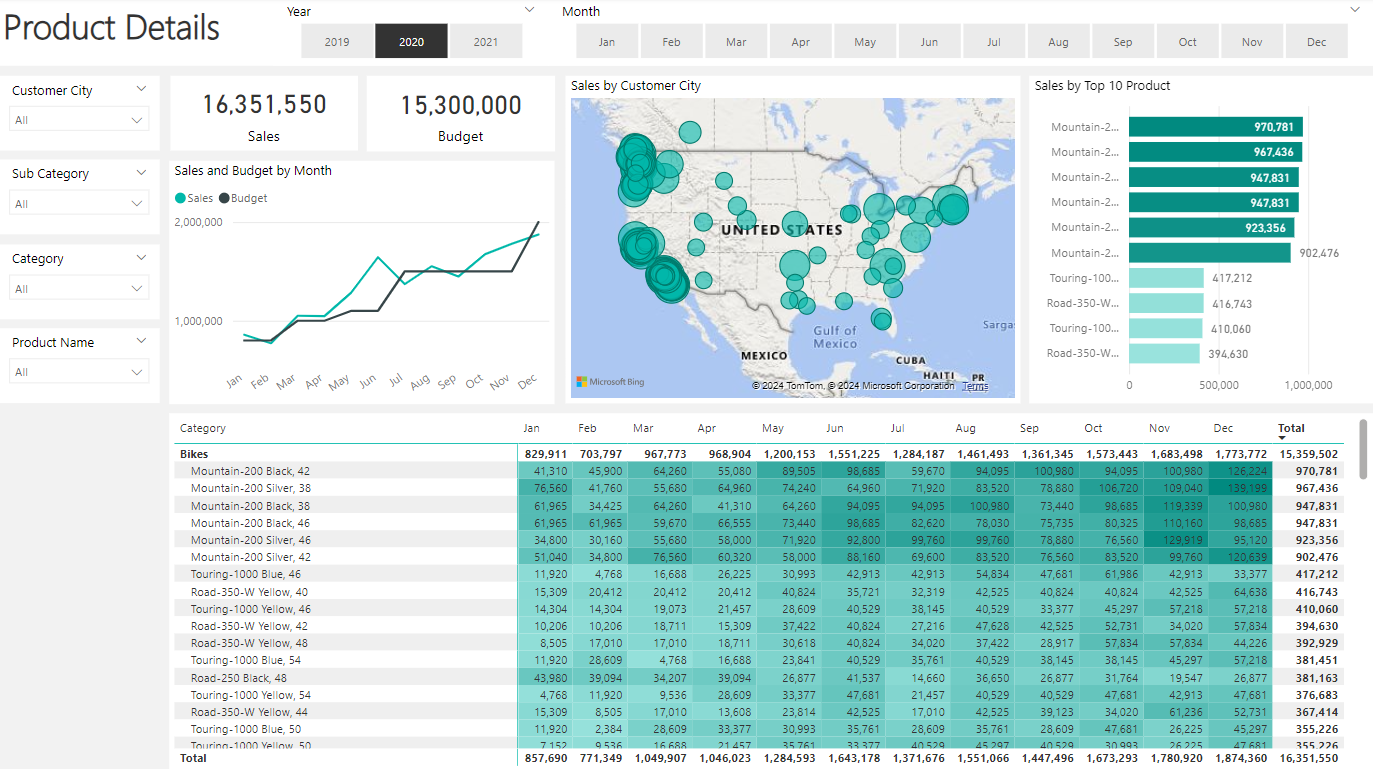

This screenshot's page, from the dashboard's own definition file:
{"tool":"powerbi","page":{"name":"Product Details","canvas":[1280,720],"ordinal":2},"visuals":[{"type":"textbox","box":[0,0,1280,64],"z":0},{"type":"slicer","fields":{"Values":["DIM_Calendar.Year"]},"box":[256,0,256,64],"z":1000},{"type":"slicer","fields":{"Values":["DIM_Calendar.MonthShort"]},"box":[512,0,768,64],"z":2000},{"type":"slicer","fields":{"Values":["DIM_Customers.Customer City"]},"box":[0,73,150.5,69.3],"z":3000},{"type":"slicer","fields":{"Values":["DIM_Products.Product Category"]},"box":[0,229.9,150.5,69.3],"z":4000},{"type":"slicer","fields":{"Values":["DIM_Products.Product Name"]},"box":[0,308.4,150.5,69.3],"z":5000},{"type":"slicer","fields":{"Values":["DIM_Products.Sub Category"]},"box":[0,151.4,150.5,69.3],"z":6000},{"type":"lineChart","fields":{"Category":["DIM_Calendar.MonthShort"],"Y":["Analysis Metrics.Sales","Analysis Metrics.Budget"]},"box":[159.8,151.8,358.7,226.4],"z":7000},{"type":"card","fields":{"Values":["Analysis Metrics.Sales"]},"box":[160.7,72.8,174,69.2],"z":8000},{"type":"map","fields":{"Category":["DIM_Customers.Customer City"],"Size":["Analysis Metrics.Sales"]},"box":[527.3,72.8,423.5,304.5],"z":9000},{"type":"card","fields":{"Values":["Analysis Metrics.Budget"]},"box":[343.6,72.8,174.9,70.1],"z":10000},{"type":"pivotTable","fields":{"Rows":["DIM_Products.Product Category","DIM_Products.Product Name"],"Columns":["DIM_Calendar.MonthShort"],"Values":["Analysis Metrics.Sales"]},"box":[159.8,387.1,1120.4,332.9],"z":11000},{"type":"clusteredBarChart","title":"Sales by Top 10 Product","fields":{"Category":["DIM_Products.Product Name"],"Y":["Analysis Metrics.Sales"]},"box":[959.7,72.8,320.5,304.5],"z":12000}]}

Visuals, with their boxes in screenshot pixels (x1, y1, x2, y2), scaled from the page's 1280x720 canvas onto the 1373x769 screenshot:
textbox: 0, 0, 1372, 68
slicer - DIM_Calendar.Year: 275, 0, 549, 68
slicer - DIM_Calendar.MonthShort: 549, 0, 1372, 68
slicer - DIM_Customers.Customer City: 0, 78, 161, 152
slicer - DIM_Products.Product Category: 0, 246, 161, 320
slicer - DIM_Products.Product Name: 0, 329, 161, 403
slicer - DIM_Products.Sub Category: 0, 162, 161, 236
lineChart - DIM_Calendar.MonthShort x Analysis Metrics.Sales: 171, 162, 556, 404
card - Analysis Metrics.Sales: 172, 78, 359, 152
map - DIM_Customers.Customer City x Analysis Metrics.Sales: 566, 78, 1020, 403
card - Analysis Metrics.Budget: 369, 78, 556, 153
pivotTable - DIM_Products.Product Category x DIM_Products.Product Name: 171, 413, 1372, 768
"Sales by Top 10 Product" clusteredBarChart: 1029, 78, 1372, 403
